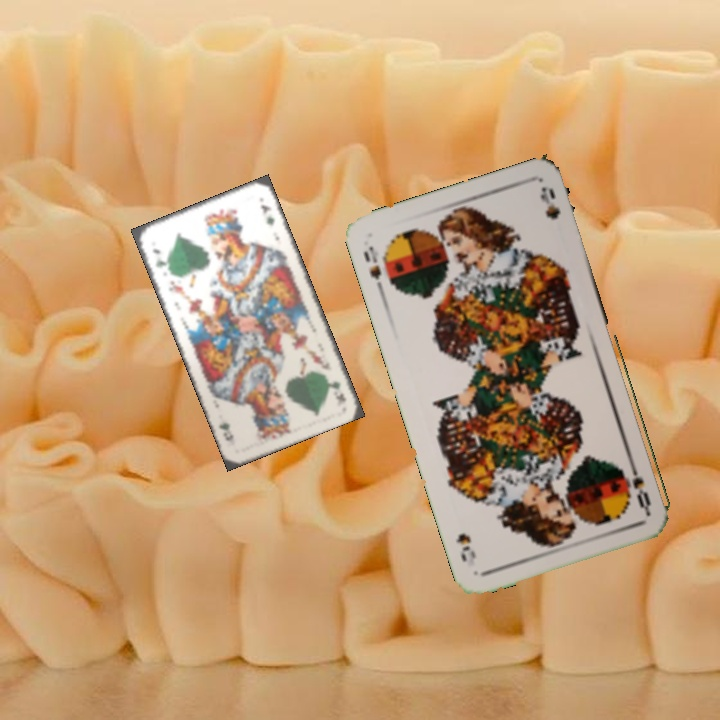GK: (326, 377, 349, 408), (149, 244, 169, 271)
SO: (624, 457, 654, 515), (359, 241, 387, 296)
